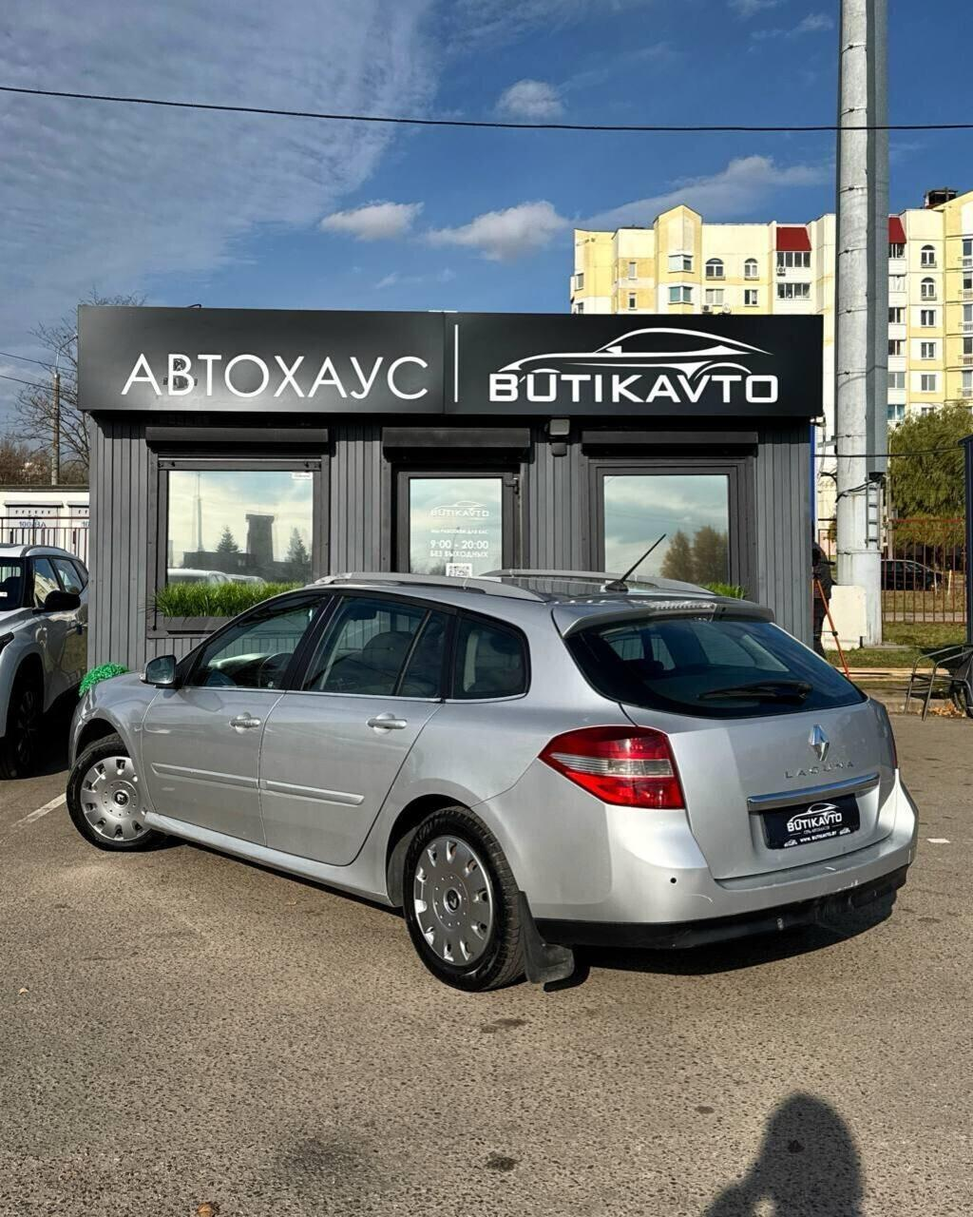Laguna_2007-2011: (67, 570, 917, 992)
